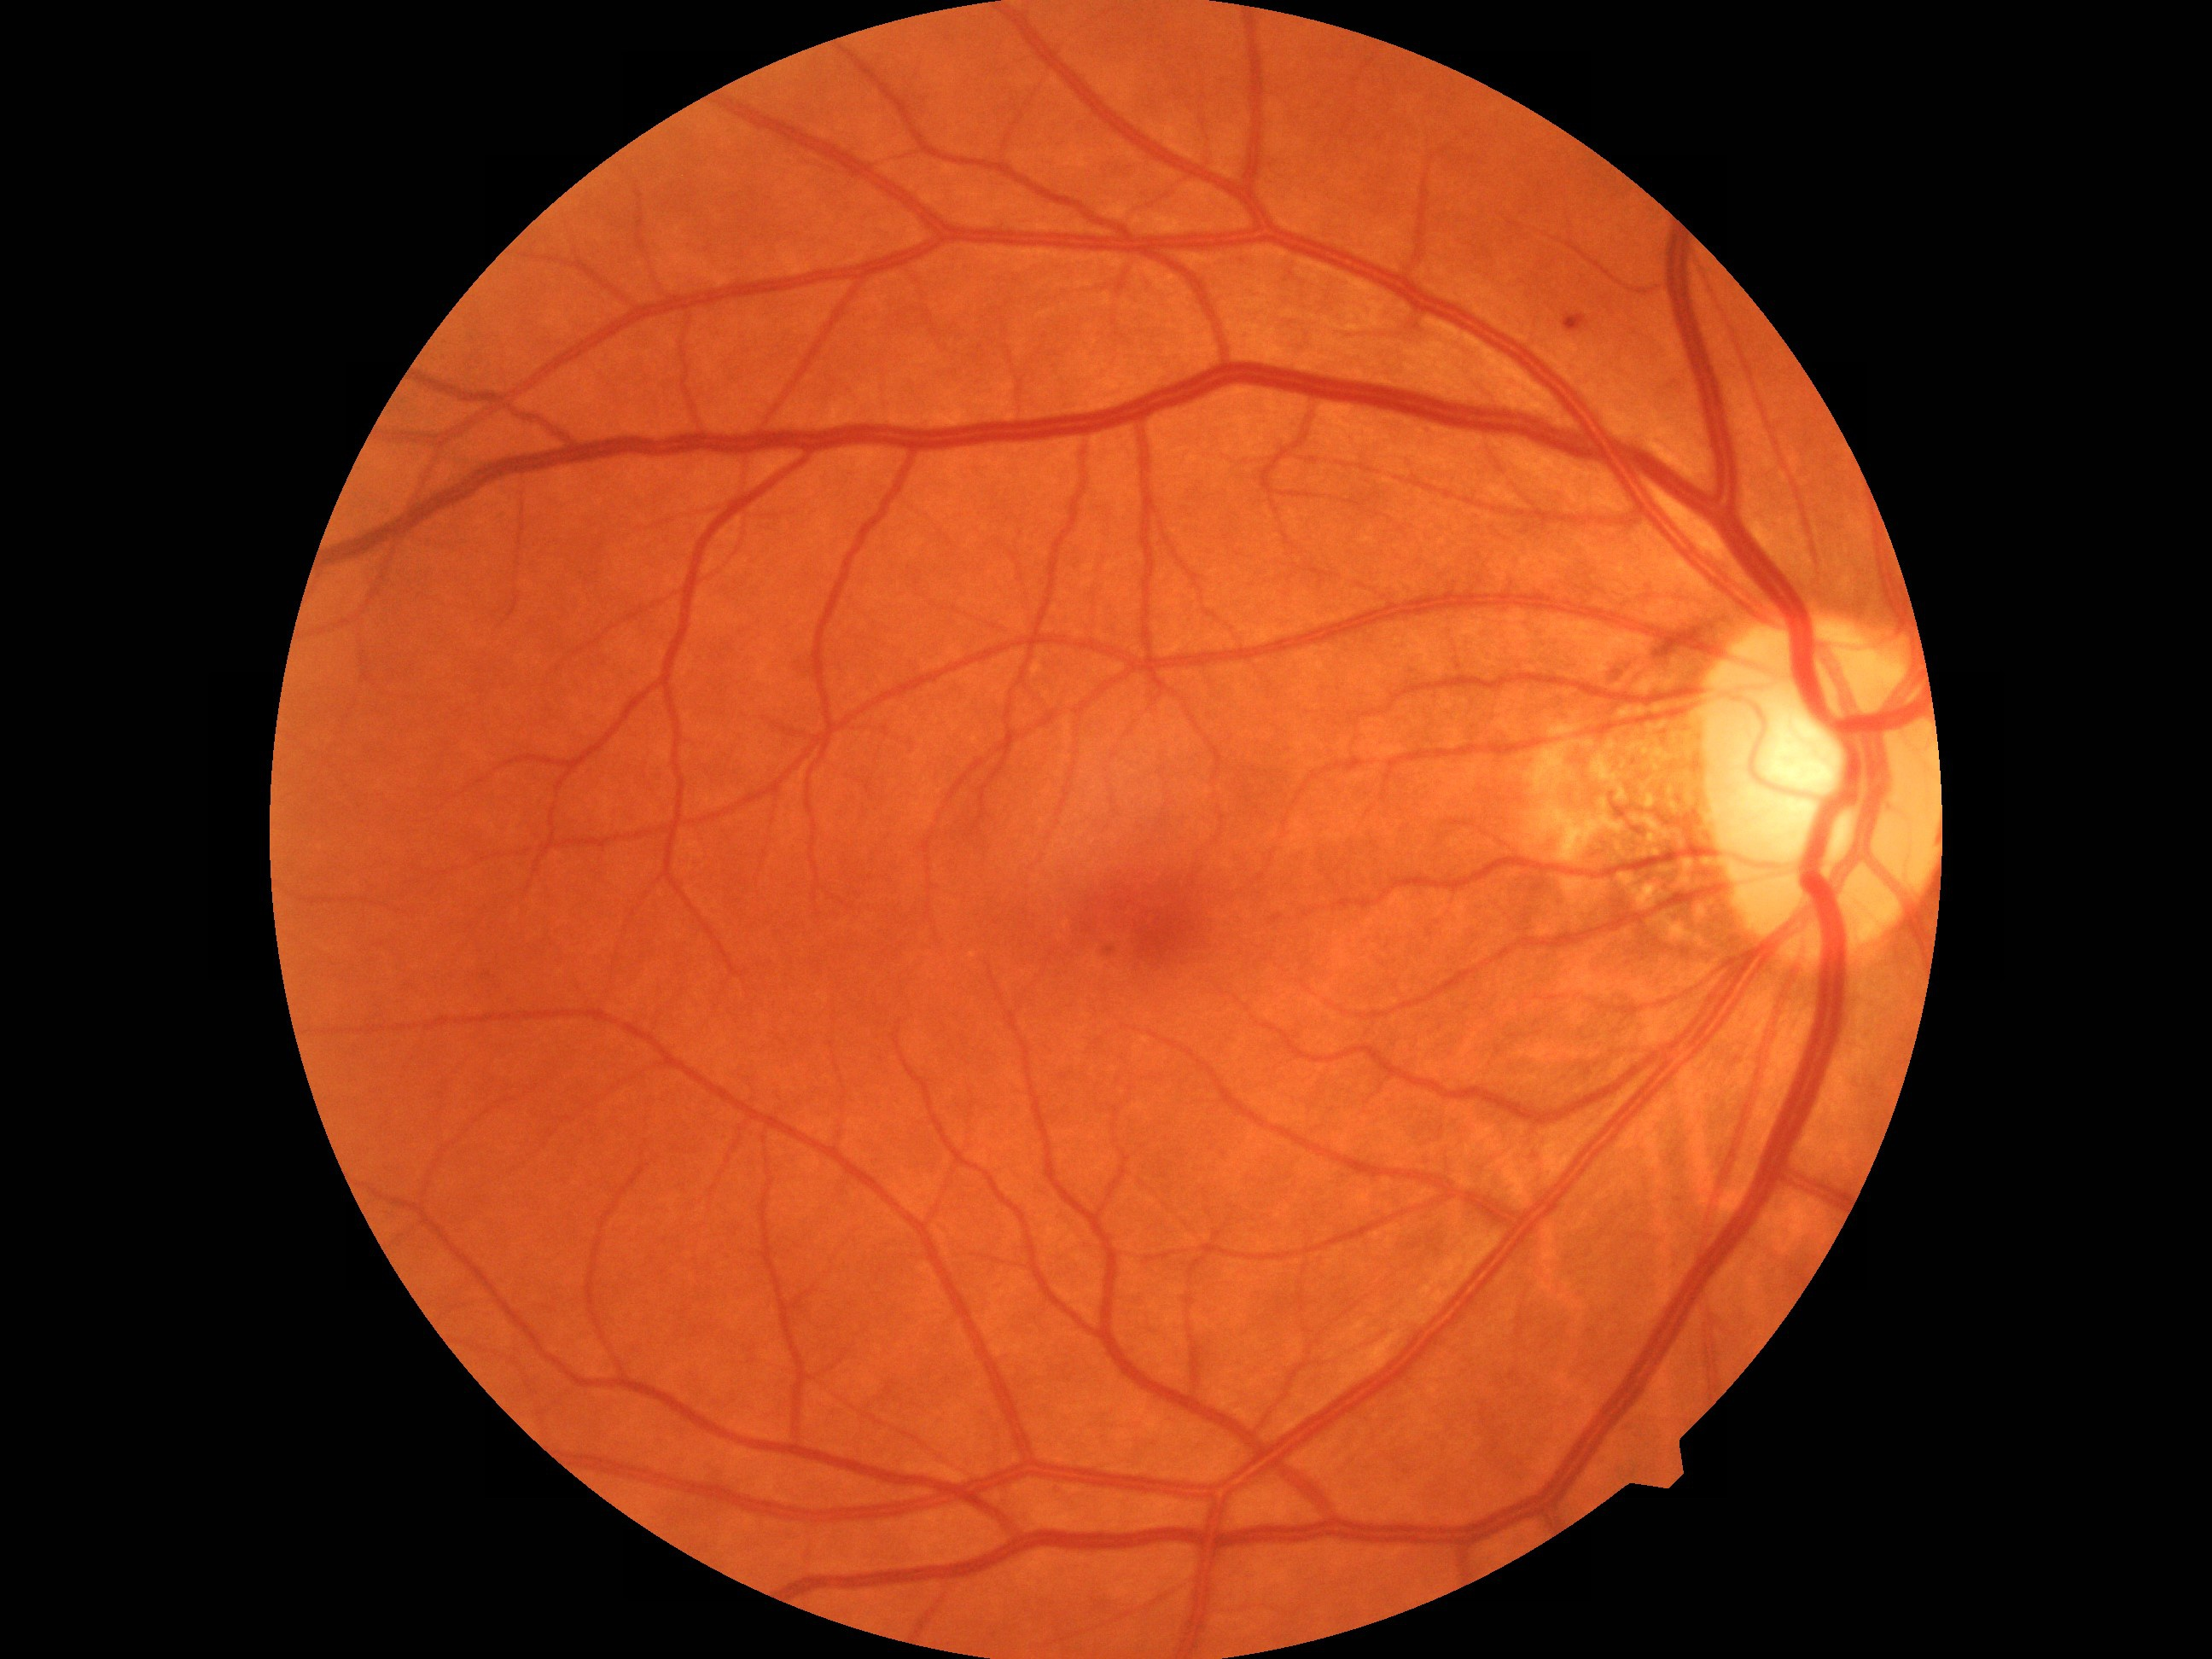Hemorrhages: (1040, 836, 1271, 1037)
Optic-Disc: (1689, 599, 1937, 960)
Venules: (784, 237, 1604, 460), (954, 1368, 1390, 1591)
